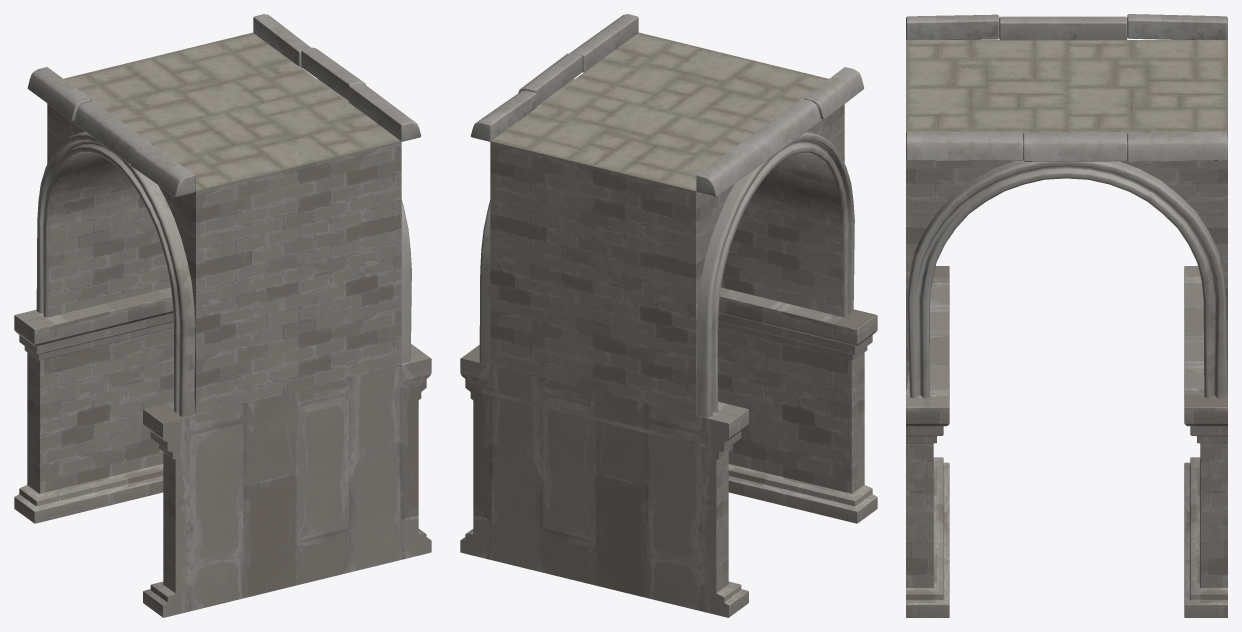
File: SM_Bridge.fbx
The picture shows the model from 3 angles, left to right: view 1: azimuth 30°, elevation 25°; view 2: azimuth 150°, elevation 25°; view 3: azimuth 270°, elevation 25°; orthographic projection. The views are drawn at different scales.
Parts seen in each view (by area): view 1: SM_Bridge_LOD0; view 2: SM_Bridge_LOD0; view 3: SM_Bridge_LOD0.
Part boxes in pixels (<box>): SM_Bridge_LOD0: <box>14,14,431,617</box>; SM_Bridge_LOD0: <box>460,14,877,617</box>; SM_Bridge_LOD0: <box>906,14,1227,617</box>.
Size of the model in its own units: 940 by 900 by 1460.
3 materials, 3 textured.
